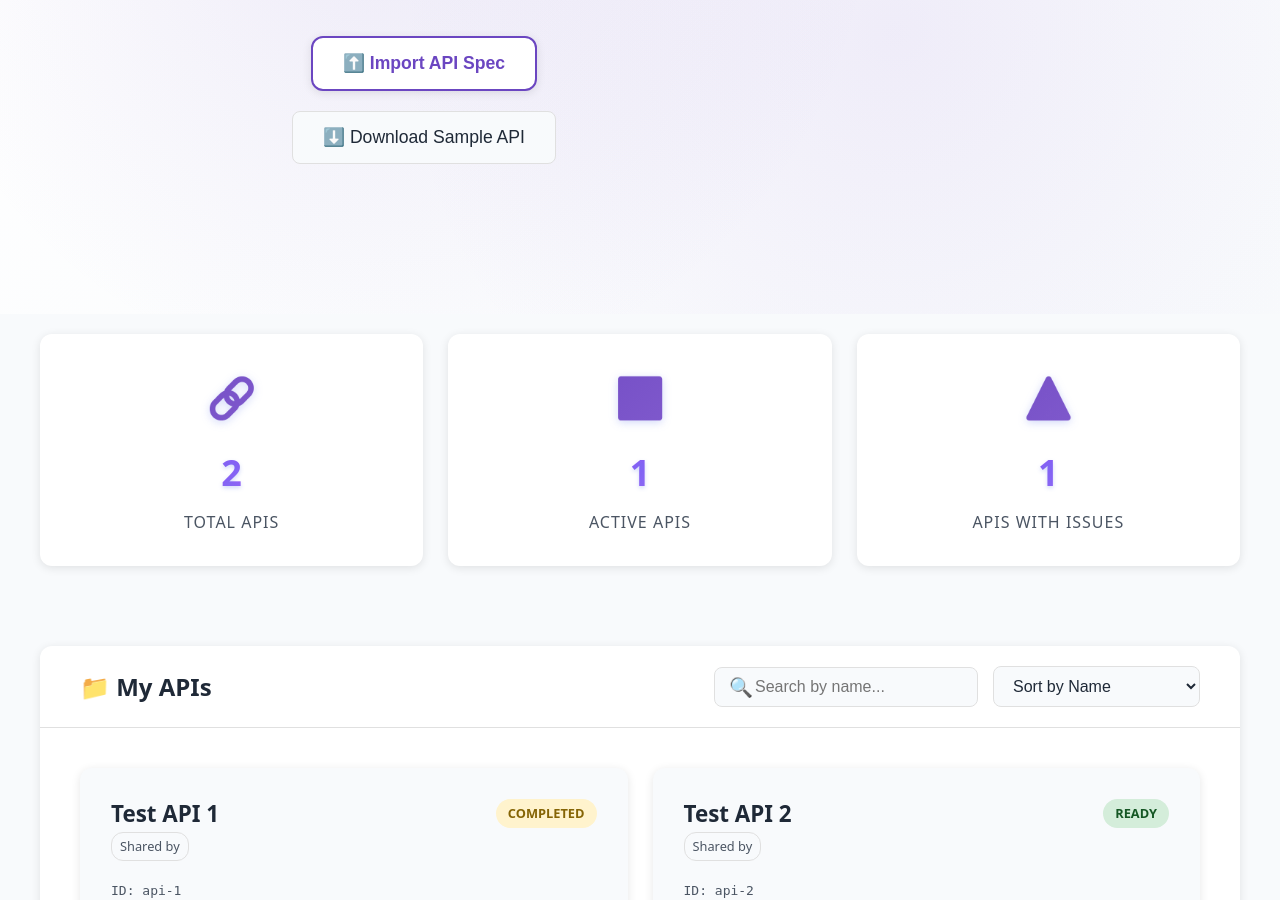
Test: ManageAPIs Component - Working Additional Tests › filter toggle works
Expected: the heading "Test API 1" is shown, 111,798 -> 219,829
Expected: the heading "Test API 2" is shown, 684,798 -> 792,829
Click the element showing "⚠️ 1 APIs with Issues" at (1048, 450), box 857,334 -> 1240,566
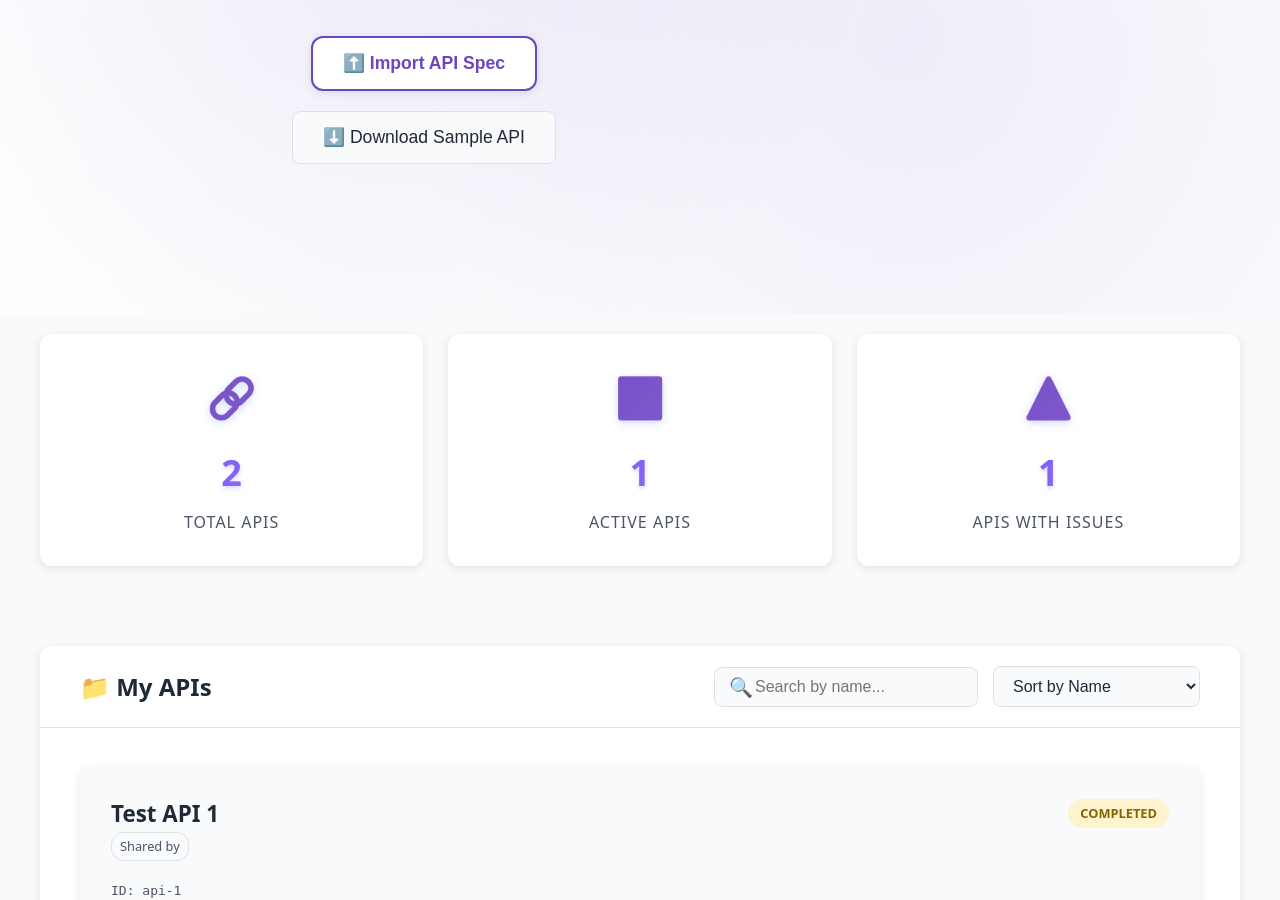
Expected: the heading "Test API 1" is shown, 111,798 -> 219,829
Result: the heading "Test API 2" is gone
